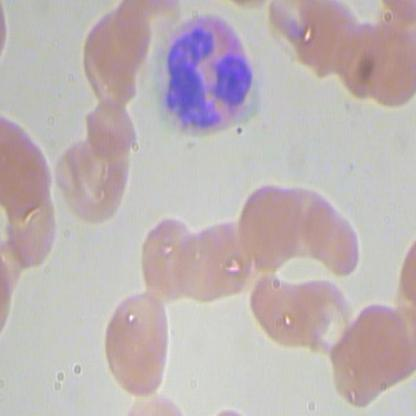RBC: (95, 289, 177, 398), (51, 126, 135, 229), (137, 214, 205, 312), (172, 215, 228, 305), (303, 200, 361, 277)
WBC: (148, 9, 259, 133)
